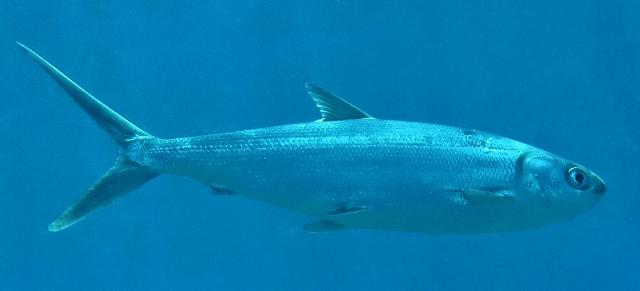Mulut: (562, 162, 626, 214)
Sirip Anal: (198, 175, 242, 205)
Sirip Dada: (444, 168, 518, 220)
Sirip Ekor: (13, 28, 170, 252)
Sirip Perut: (292, 196, 376, 252)
Sirip Punggung: (294, 73, 382, 141)
